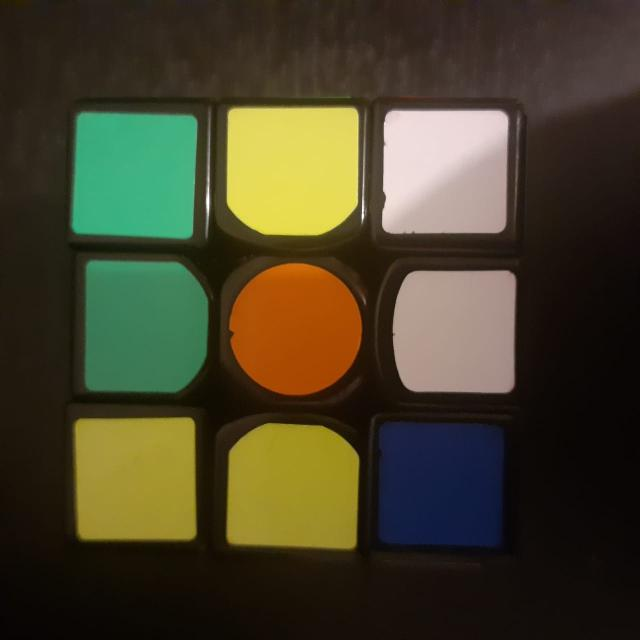Blue: (374, 426, 512, 558)
Green: (78, 254, 210, 404), (76, 107, 206, 247)
Orange: (224, 258, 370, 410)
White: (384, 259, 522, 407), (382, 101, 511, 243)
Yellow: (218, 110, 366, 242), (226, 418, 364, 558), (70, 413, 208, 551)
